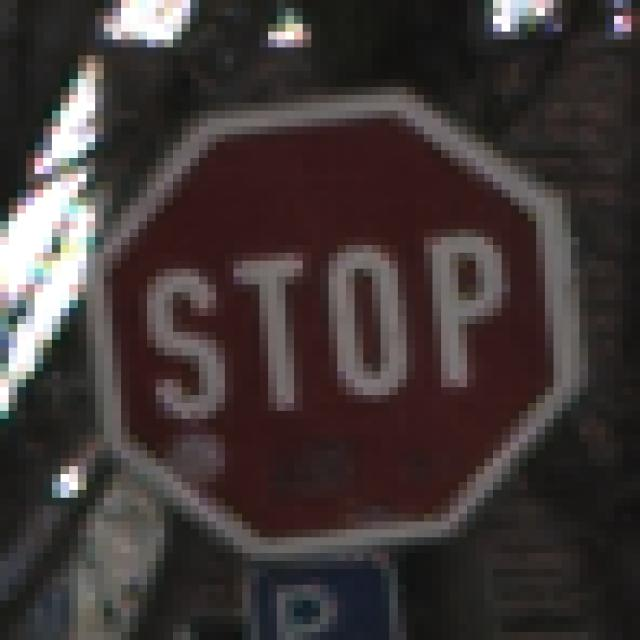STOP: (62, 64, 589, 578)
